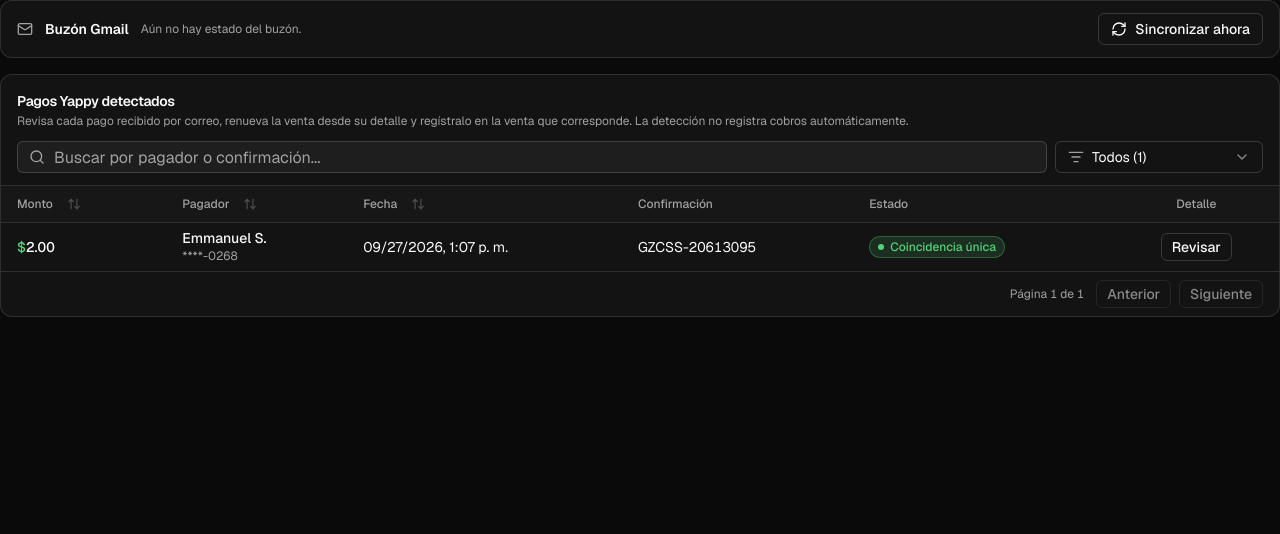
Yappy review queue › filters by status and shows a useful empty state
The width and height of the screenshot is (1280, 534).
Click the button with aria-label "Estado" at (1159, 157), box [1055,141,1263,173]
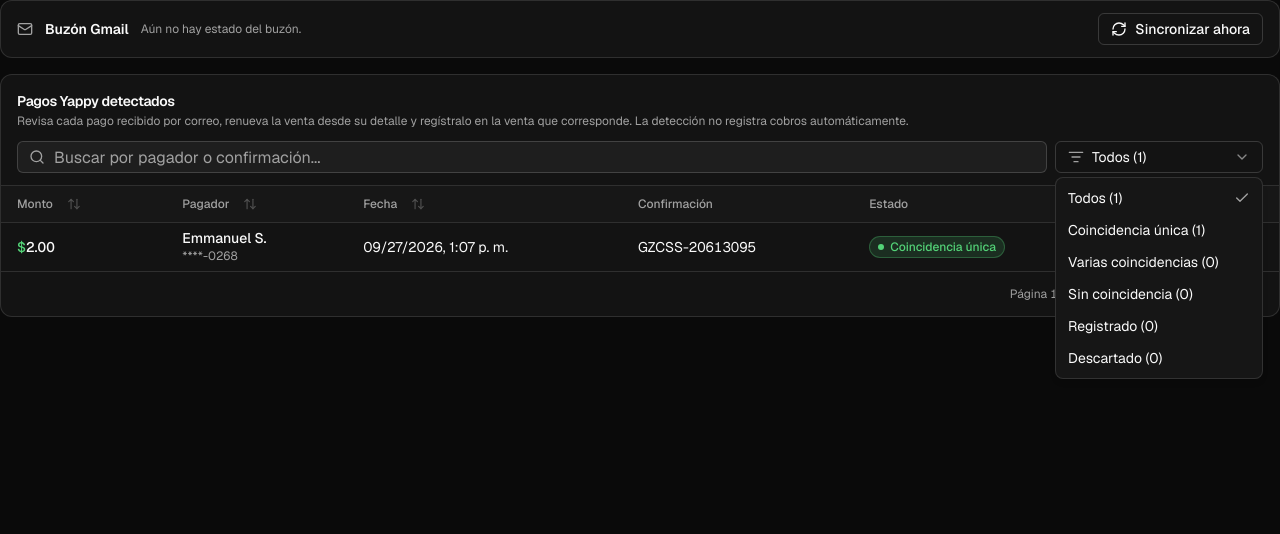
Click the menu item "Descartado (0)" at (1115, 358), box [1068,349,1162,367]
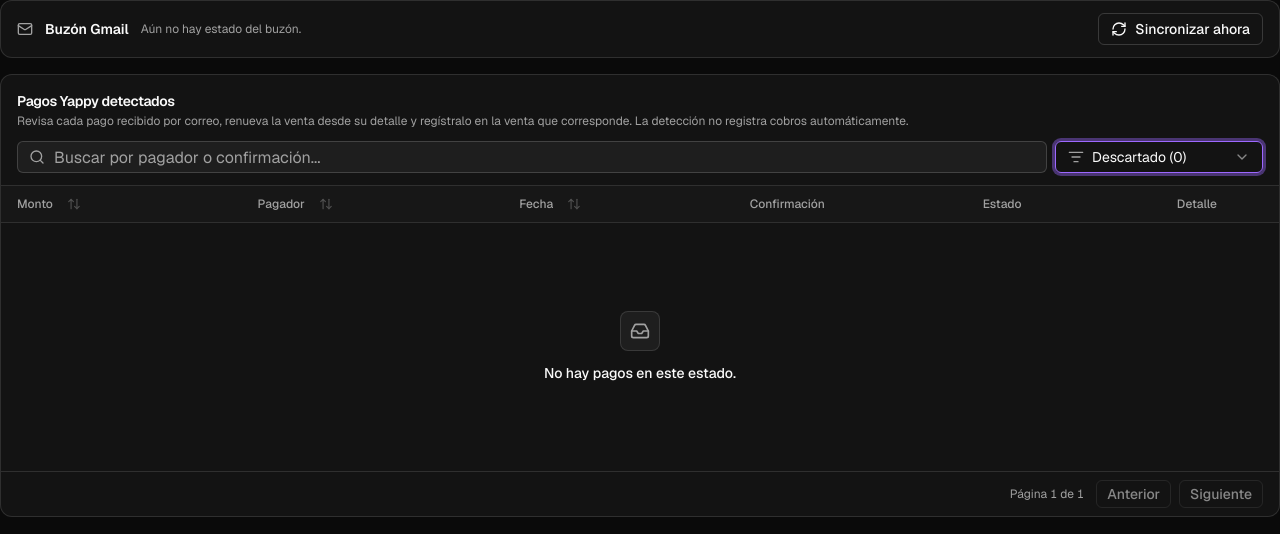
Expected: the heading "No hay pagos en este estado." is shown, [544,362,736,382]
